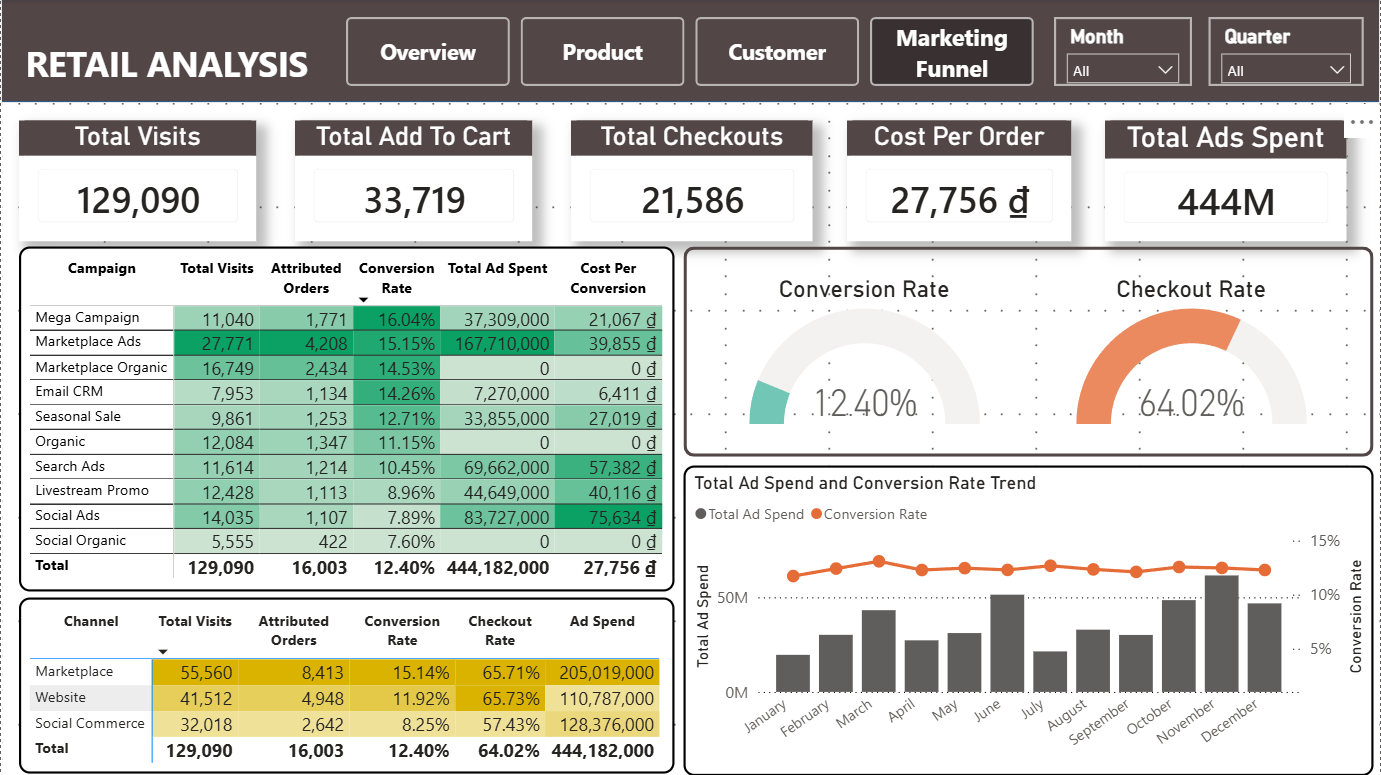

The page's visual inventory and layout, read from the dashboard file:
{"tool":"powerbi","page":{"name":"Marketing Funnel","canvas":[1280,720],"ordinal":3},"visuals":[{"type":"cardVisual","title":"Total Visits","fields":{"Data":["Sum(MarketingFunnel.Visits)"]},"box":[16,112,220,112],"z":0},{"type":"cardVisual","title":"Total Add To Cart","fields":{"Data":["Sum(MarketingFunnel.Add_to_Cart)"]},"box":[272,112,220,112],"z":1000},{"type":"cardVisual","title":"Cost Per Order","fields":{"Data":["MarketingFunnel.Cost Per Order"]},"box":[784,112,208,112],"z":2000},{"type":"cardVisual","title":"Total Ads Spent","fields":{"Data":["Sum(MarketingFunnel.Ad_Spend)"]},"box":[1024,112,224,112],"z":3000},{"type":"cardVisual","title":"Total Checkouts","fields":{"Data":["Sum(MarketingFunnel.Checkout)"]},"box":[528,112,224,112],"z":4000},{"type":"shape","box":[0,0,1280,96],"z":5000},{"type":"pageNavigator","box":[320,16,640,64],"z":6000},{"type":"textbox","box":[0,32,304,64],"z":7000},{"type":"gauge","fields":{"Y":["MarketingFunnel.Conversion Rate"]},"box":[688,256,224,144],"z":8000},{"type":"pivotTable","fields":{"Rows":["MarketingFunnel.Campaign"],"Values":["Sum(MarketingFunnel.Visits)","Sum(MarketingFunnel.Orders)","MarketingFunnel.Conversion Rate","Sum(MarketingFunnel.Ad_Spend)","MarketingFunnel.Cost Per Order"]},"box":[16,230,608,320],"z":9000},{"type":"pivotTable","fields":{"Rows":["MarketingFunnel.Channel"],"Values":["Sum(MarketingFunnel.Visits)","Sum(MarketingFunnel.Orders)","MarketingFunnel.Conversion Rate","MarketingFunnel.Checkout Rate","Sum(MarketingFunnel.Ad_Spend)"]},"box":[16,555,608,163],"z":10000},{"type":"slicer","fields":{"Values":["DimDate.Month"]},"box":[976,16,128,64],"z":11000},{"type":"lineStackedColumnComboChart","title":"Total Ad Spend and Conversion Rate Trend","fields":{"Category":["DimDate.Month"],"Y":["Sum(MarketingFunnel.Ad_Spend)"],"Y2":["MarketingFunnel.Conversion Rate"]},"box":[633,432,640,288],"z":12000},{"type":"slicer","title":"fyr","fields":{"Values":["DimDate.Quarter"]},"box":[1120,16,144,64],"z":13000},{"type":"gauge","fields":{"Y":["MarketingFunnel.Checkout Rate"]},"box":[992,256,224,144],"z":14000},{"type":"shape","box":[633,230,640,195],"z":15000}]}

Visuals, with their boxes in screenshot pixels (x1, y1, x2, y2), scaled from the page's 1280x720 canvas onto the 1381x775 screenshot:
"Total Visits" cardVisual: bbox=(17, 121, 255, 241)
"Total Add To Cart" cardVisual: bbox=(293, 121, 531, 241)
"Cost Per Order" cardVisual: bbox=(846, 121, 1070, 241)
"Total Ads Spent" cardVisual: bbox=(1105, 121, 1346, 241)
"Total Checkouts" cardVisual: bbox=(570, 121, 811, 241)
shape: bbox=(0, 0, 1380, 103)
pageNavigator: bbox=(345, 17, 1036, 86)
textbox: bbox=(0, 34, 328, 103)
gauge - MarketingFunnel.Conversion Rate: bbox=(742, 276, 984, 431)
pivotTable - MarketingFunnel.Campaign x Sum(MarketingFunnel.Visits): bbox=(17, 248, 673, 592)
pivotTable - MarketingFunnel.Channel x Sum(MarketingFunnel.Visits): bbox=(17, 597, 673, 773)
slicer - DimDate.Month: bbox=(1053, 17, 1191, 86)
"Total Ad Spend and Conversion Rate Trend" lineStackedColumnComboChart: bbox=(683, 465, 1373, 774)
"fyr" slicer: bbox=(1208, 17, 1364, 86)
gauge - MarketingFunnel.Checkout Rate: bbox=(1070, 276, 1312, 431)
shape: bbox=(683, 248, 1373, 457)
